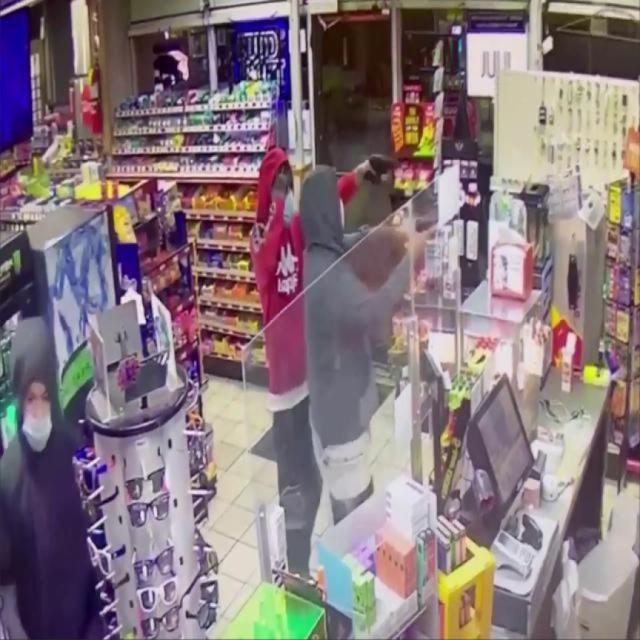pistol: (362, 154, 402, 188), (414, 216, 438, 238)
